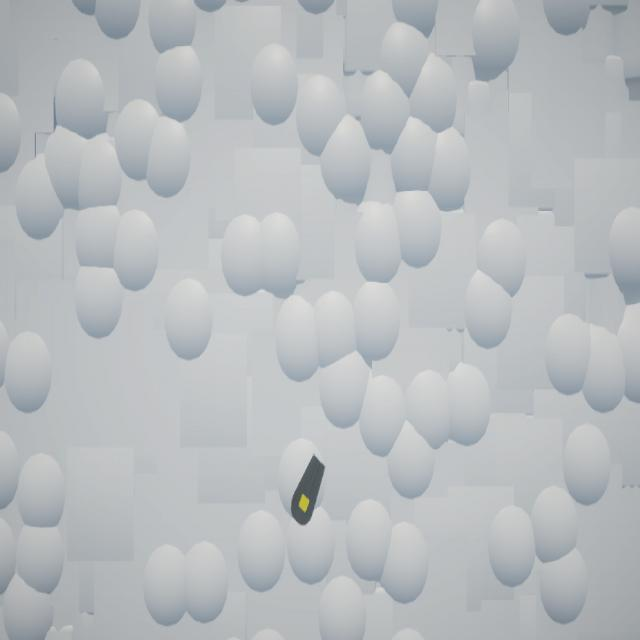handle_folk: (292, 455, 327, 527)
